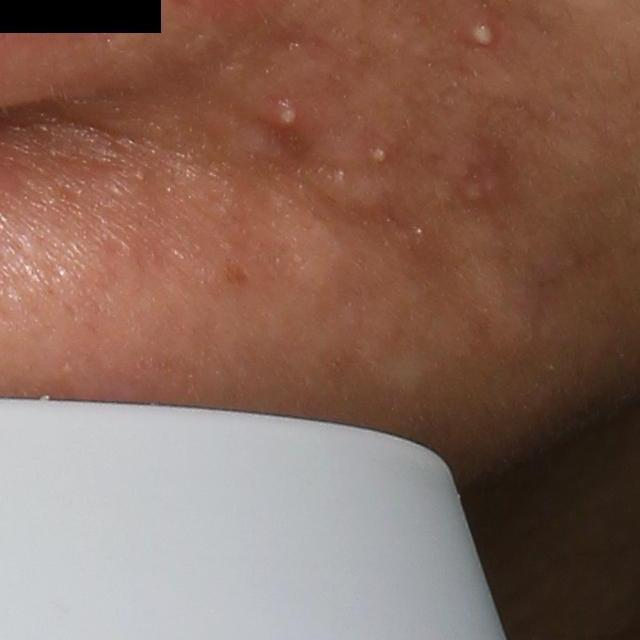pustule: (261, 96, 311, 137), (463, 14, 508, 55)
